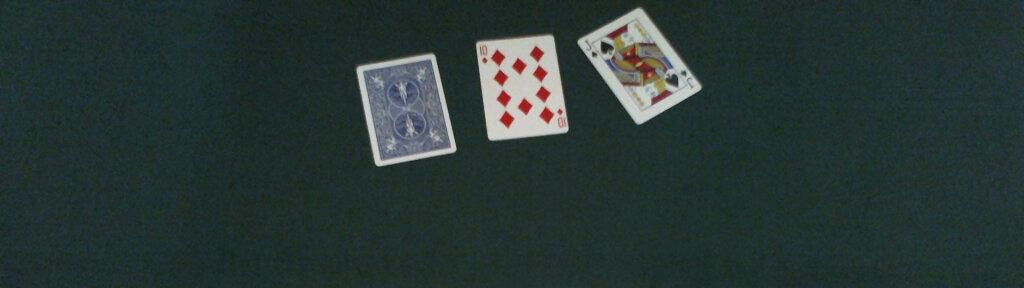back: (353, 52, 457, 166)
jack: (577, 7, 703, 126)
ten: (474, 33, 570, 141)
